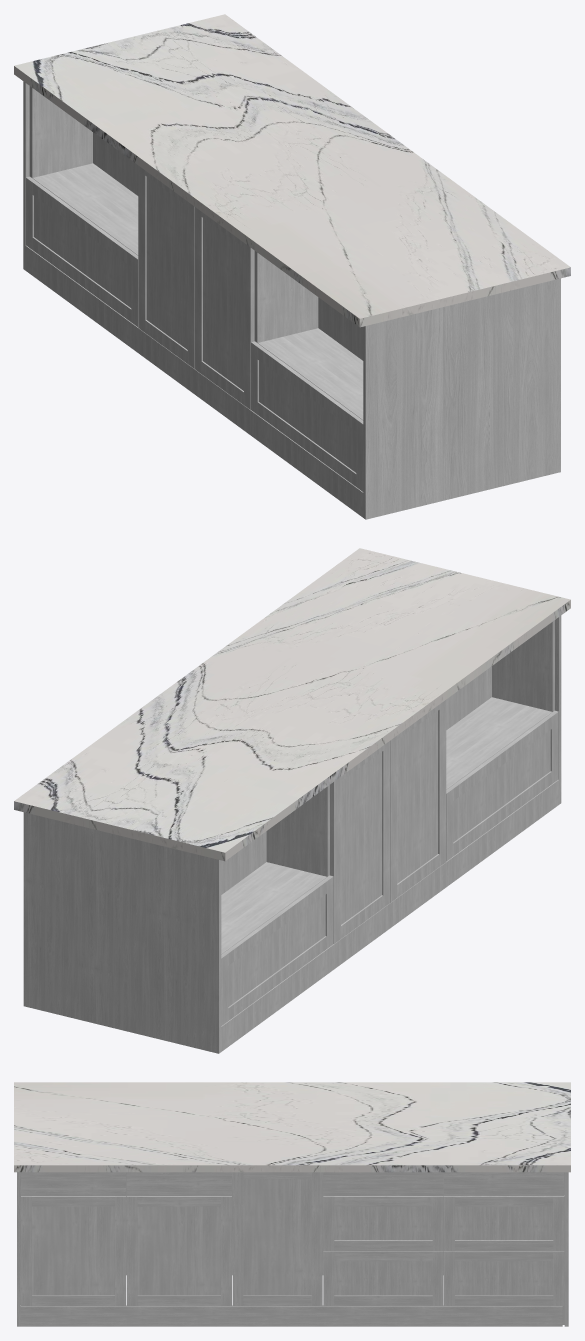
3 views of the same model, one above another, from view 1: azimuth 30°, elevation 25°; view 2: azimuth 150°, elevation 25°; view 3: azimuth 270°, elevation 25° (orthographic). The views are drawn at different scales.
Parts seen in each view (by area): view 1: Island_Counter_74, Cab_FF_11, Cab_Cen_23, Cab_Trim_72; view 2: Island_Counter_74, Cab_FF_11, Cab_Cen_23, Cab_Trim_72; view 3: Island_Counter_74, Cab_Trim_72, Cab_Cen_23, Cab_FF_11.
Part boxes in pixels (x1=…): Island_Counter_74: x1=14, y1=14, x2=570, y2=327; Cab_FF_11: x1=23, y1=81, x2=560, y2=519; Cab_Cen_23: x1=34, y1=177, x2=356, y2=472; Cab_Trim_72: x1=26, y1=165, x2=363, y2=491; Island_Counter_74: x1=14, y1=548, x2=570, y2=861; Cab_FF_11: x1=23, y1=615, x2=561, y2=1053; Cab_Cen_23: x1=228, y1=711, x2=550, y2=1006; Cab_Trim_72: x1=221, y1=700, x2=558, y2=1025; Island_Counter_74: x1=14, y1=1082, x2=570, y2=1172; Cab_Trim_72: x1=21, y1=1172, x2=564, y2=1305; Cab_Cen_23: x1=32, y1=1179, x2=553, y2=1295; Cab_FF_11: x1=17, y1=1172, x2=568, y2=1326.
Size of the model in its own units: 11.92 by 11.01 by 33.8.
Materials: 2 (2 with a texture image).
